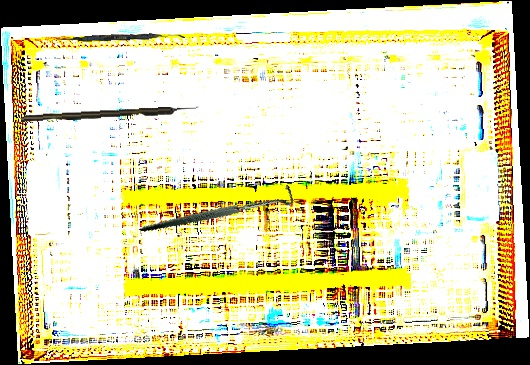Hook Surgical: (138, 149, 298, 269), (20, 105, 200, 123)
Spatula Surgical: (55, 30, 186, 45)
